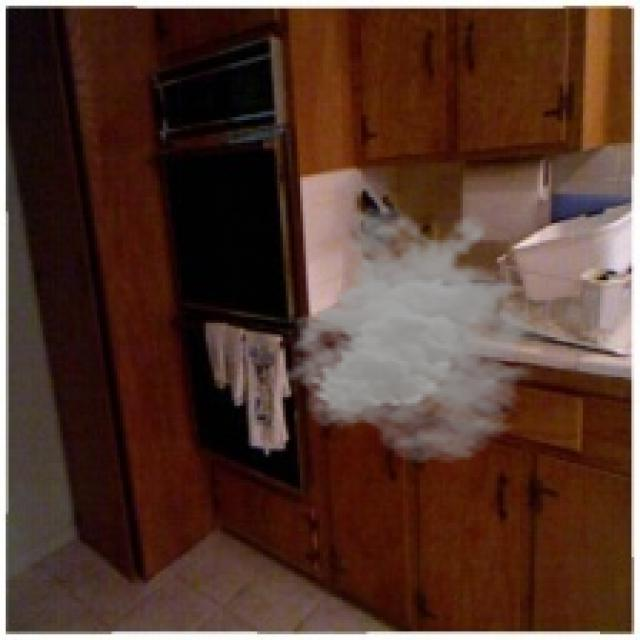smoke: (280, 203, 560, 466)
